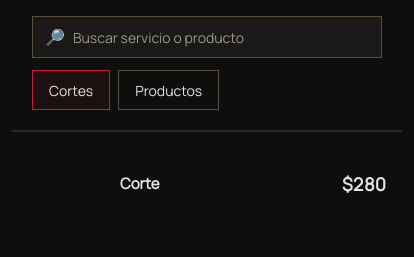
it: CheckoutPage (integration) › tap manual de servicio excluido para el atendiendo NO deja línea en el carrito
This screenshot has width=414, height=257.
Step 1. Click the text "Corte" → coordinates (140, 183), box 120,173 -> 160,194
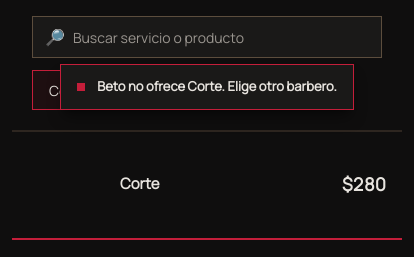
Result: the text "Beto no ofrece Corte. Elige otro barbero." is shown at 97,77 -> 337,96
